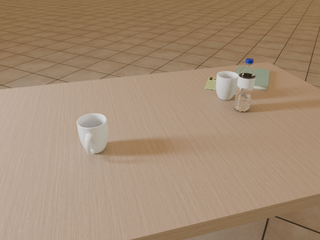book: (236, 66, 269, 90)
bottle: (234, 59, 256, 112)
cup: (77, 114, 108, 155), (216, 71, 239, 100)
phone: (205, 77, 216, 90)
